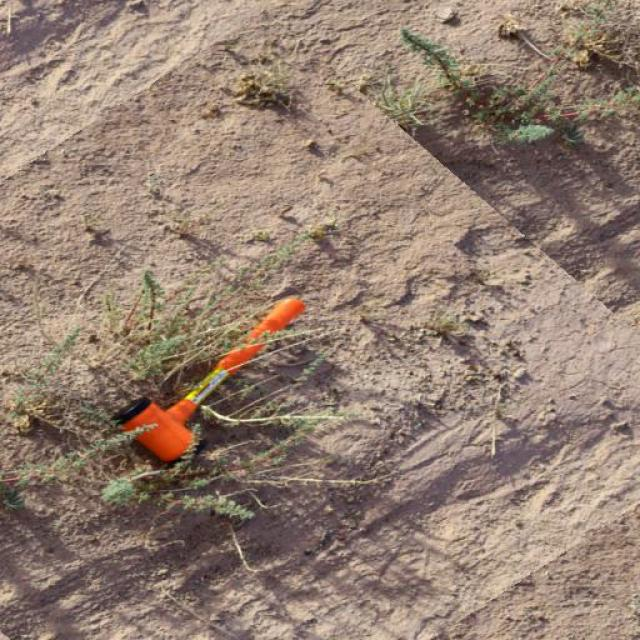mallet: (111, 295, 309, 463)
